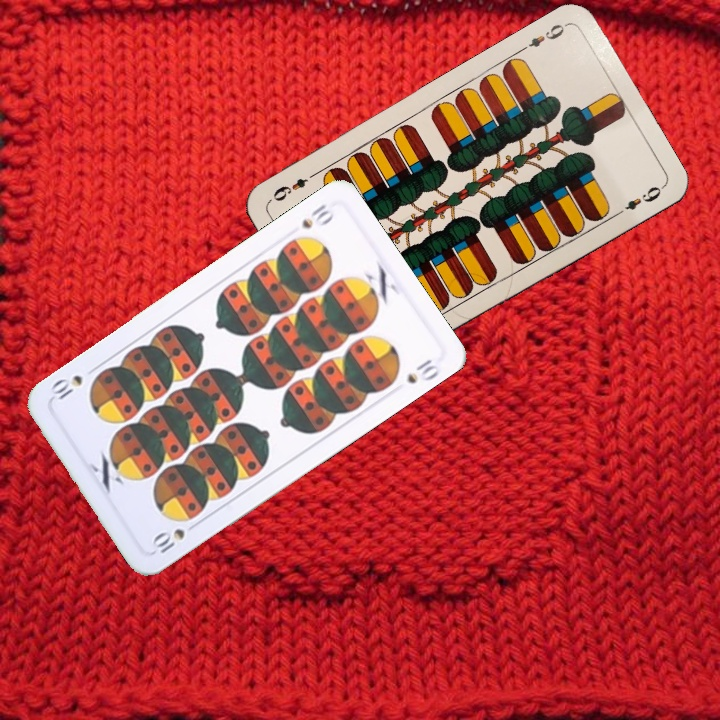E9: (516, 19, 570, 55)
S10: (147, 517, 202, 558), (297, 200, 337, 232)
